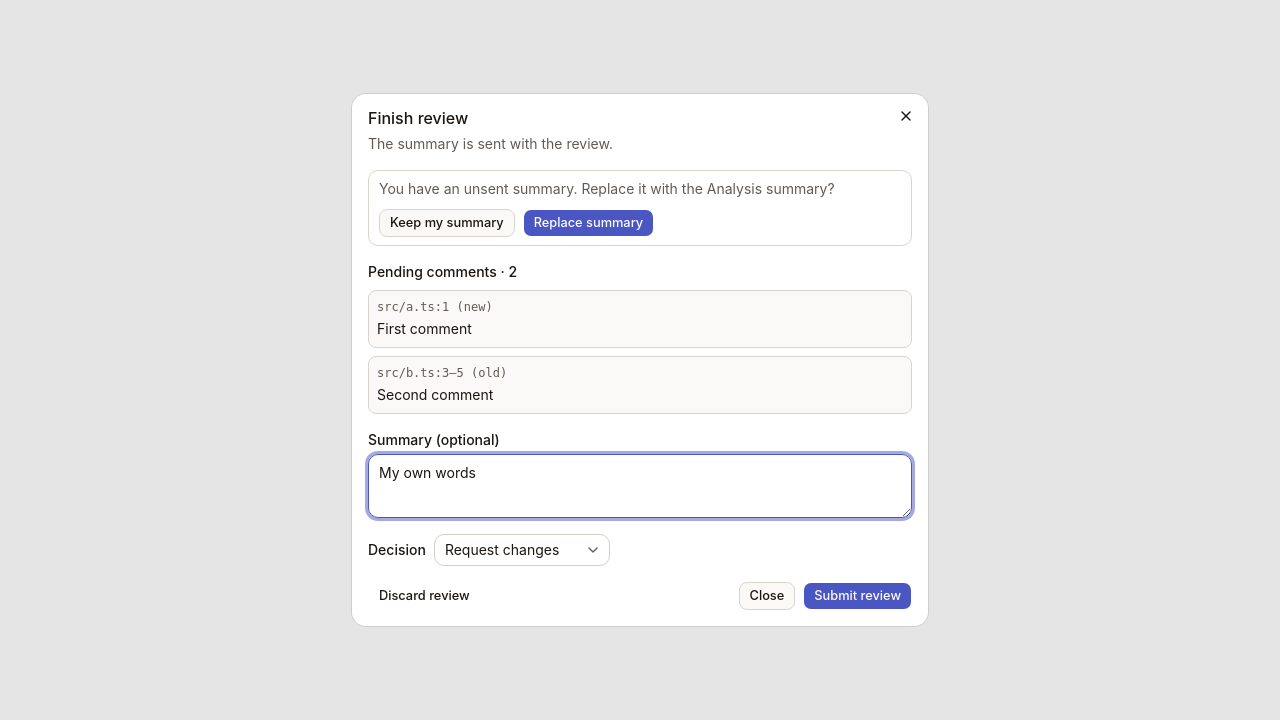
Test: FinishReviewDialog › asks before an Analysis summary replaces a kept one: Replace summary
This screenshot has width=1280, height=720.
Expected: the text box named "Final review summary" holds "My own words", [368,454,912,518]
Click the button "Replace summary" at (588, 223), box [523,209,654,237]
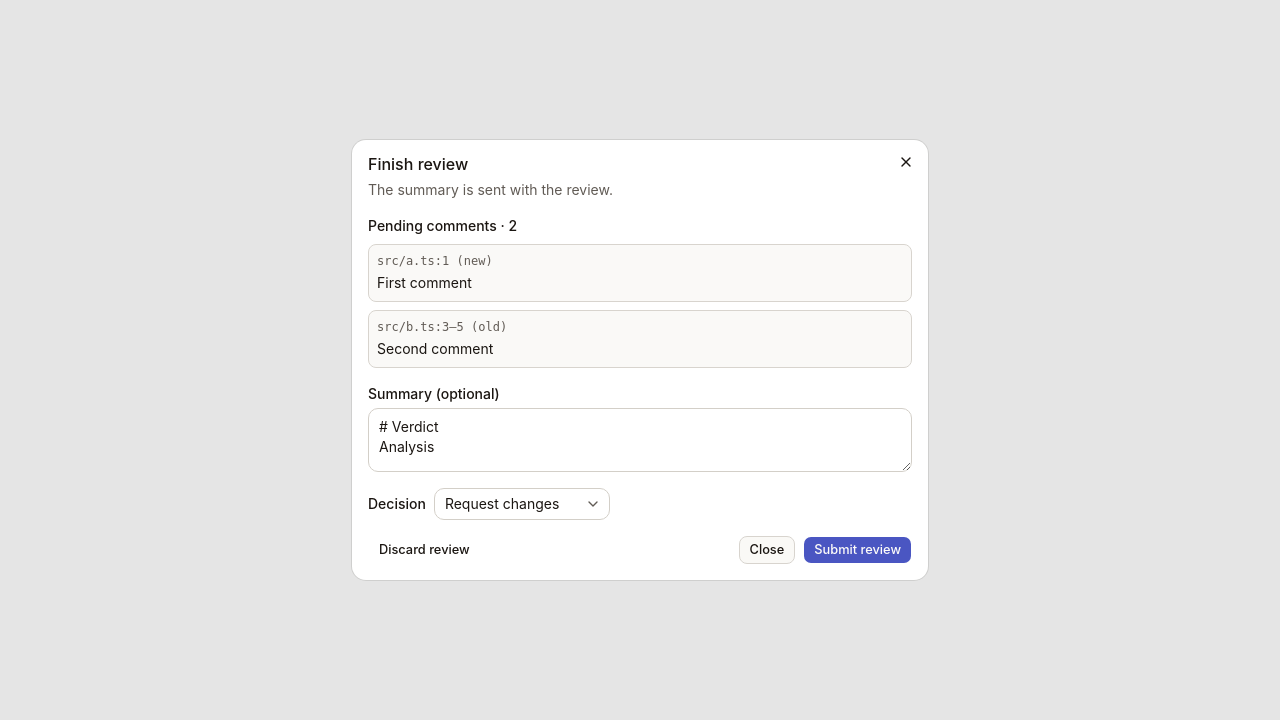
Expected: the dropdown named "Review decision" shows "Request changes", [434,488,610,520]
Expected: the button "Replace summary" is gone
